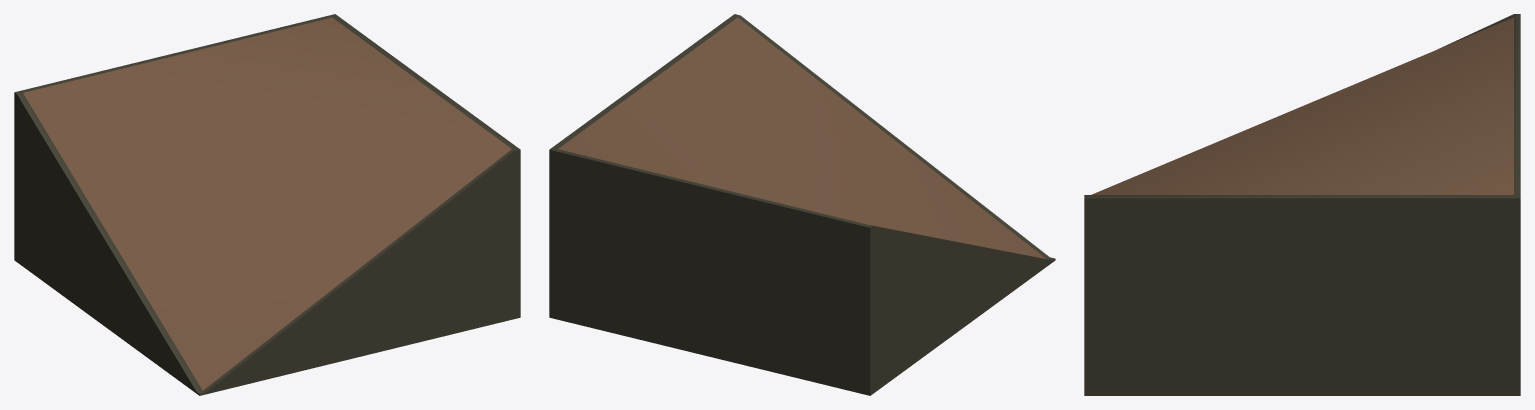
File: Casilla 8.fbx
The picture shows the model from 3 angles, left to right: view 1: azimuth 30°, elevation 25°; view 2: azimuth 150°, elevation 25°; view 3: azimuth 270°, elevation 25°; orthographic projection. The views are drawn at different scales.
Visible parts, largest first — view 1: pCube4; view 2: pCube4; view 3: pCube4.
Boxes of the visible parts, left/top/right/bottom form: pCube4: left=14, top=14, right=520, bottom=395; pCube4: left=549, top=14, right=1055, bottom=395; pCube4: left=1084, top=14, right=1520, bottom=395.
Size of the model in its own units: 200 by 100 by 200.
